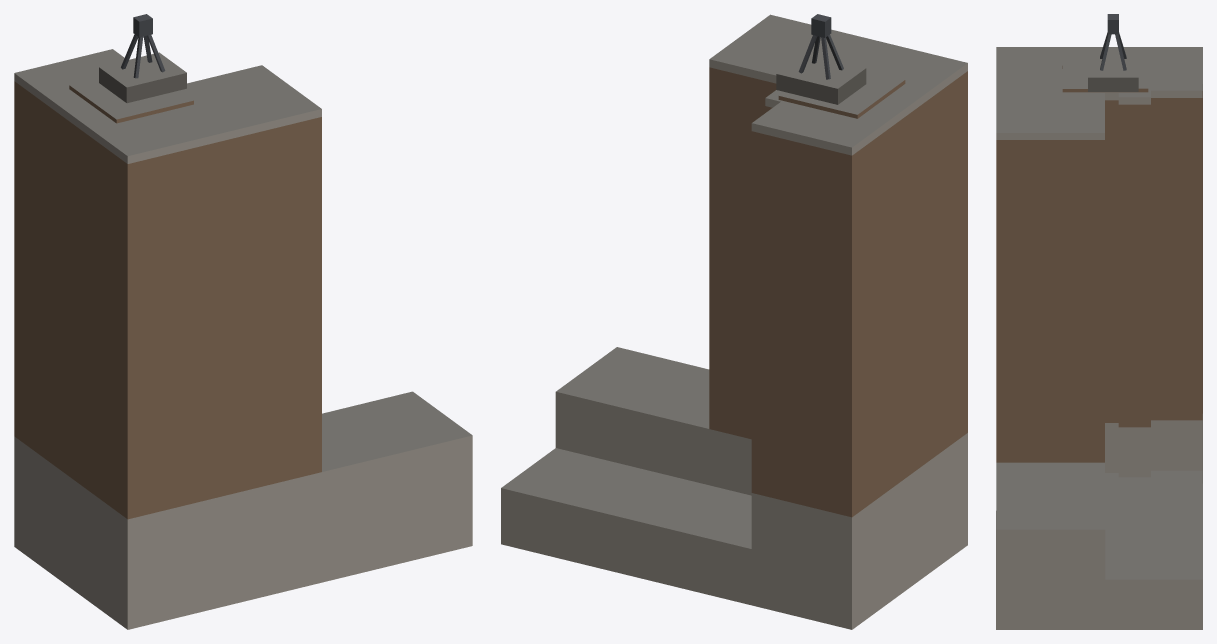
Rendered from walker_center.glb.
3 renders of one model, left to right at view 1: azimuth 30°, elevation 25°; view 2: azimuth 150°, elevation 25°; view 3: azimuth 270°, elevation 25°, orthographic. The views are drawn at different scales.
Visible parts, largest first — view 1: Walker_Center; view 2: Walker_Center; view 3: Walker_Center.
Boxes of the visible parts, left/top/right/bottom form: Walker_Center: left=14, top=14, right=472, bottom=629; Walker_Center: left=501, top=14, right=967, bottom=629; Walker_Center: left=996, top=14, right=1202, bottom=629.
Size of the model in its own units: 45.71 by 69.1 by 26.14.
